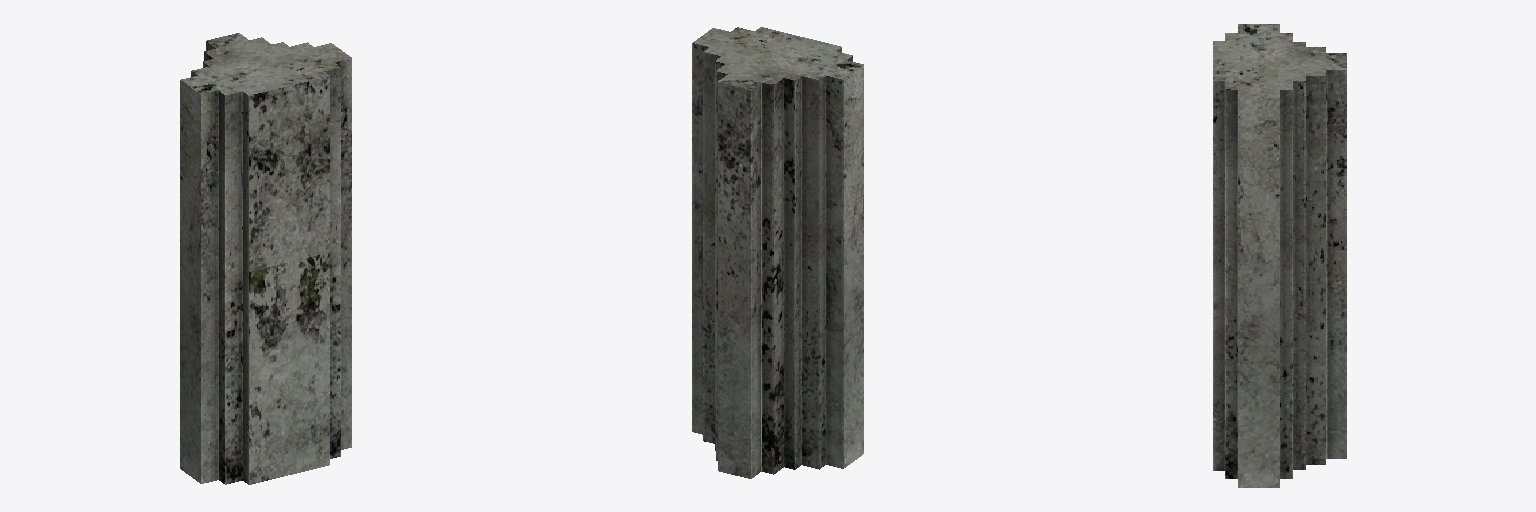
3 views of the same model, side by side, from view 1: azimuth 30°, elevation 25°; view 2: azimuth 150°, elevation 25°; view 3: azimuth 270°, elevation 25° (orthographic).
Visible parts, largest first — view 1: Pillar_03_tile; view 2: Pillar_03_tile; view 3: Pillar_03_tile.
Part boxes in pixels (bbox=[...]): Pillar_03_tile: bbox=[180, 33, 351, 484]; Pillar_03_tile: bbox=[692, 27, 863, 478]; Pillar_03_tile: bbox=[1213, 24, 1346, 487].
Size of the model in its own units: 104 by 256 by 80.04.
Materials: 1 (1 with a texture image).